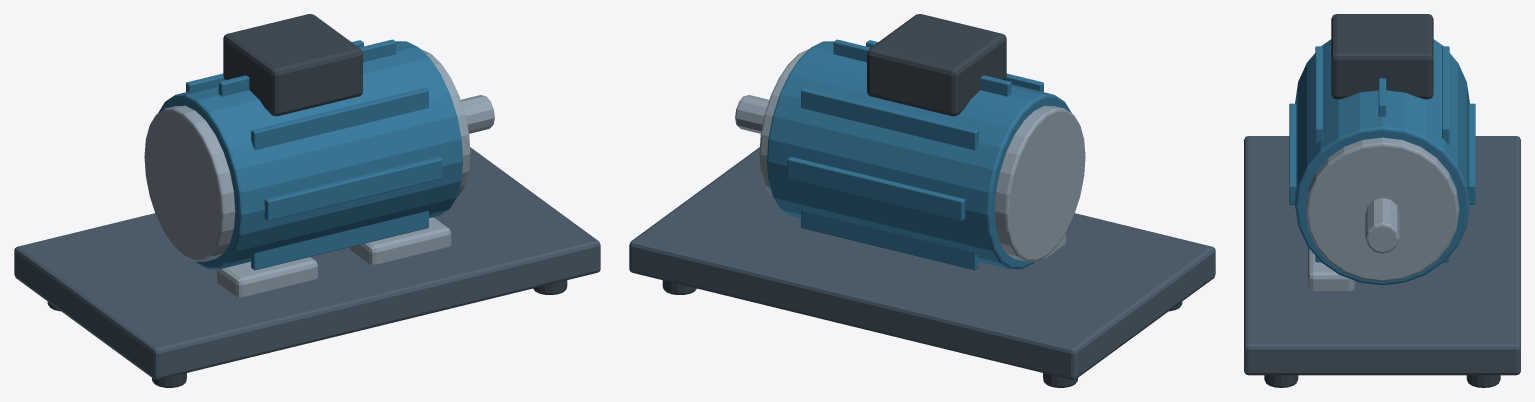
File: industrial-motor-lod1.glb
3 views of the same model, side by side, from view 1: azimuth 30°, elevation 25°; view 2: azimuth 150°, elevation 25°; view 3: azimuth 270°, elevation 25° (orthographic). The views are drawn at different scales.
Visible parts, largest first — view 1: drive_base, motor, motor_rear_endcap, motor_terminal_box, motor_cooling_fin_04, motor_cooling_fin_03, motor_cooling_fin_05, motor_foot_left, motor_foot_right, motor_front_endcap, motor_cooling_fin_02, motor_shaft; view 2: drive_base, motor, motor_rear_endcap, motor_terminal_box, motor_cooling_fin_00, motor_cooling_fin_01, motor_cooling_fin_07, motor_front_endcap, motor_cooling_fin_02, motor_shaft; view 3: drive_base, motor_front_endcap, motor, motor_terminal_box, motor_shaft, motor_foot_right, motor_cooling_fin_00, motor_cooling_fin_04, motor_cooling_fin_01, motor_cooling_fin_03, base_mount_2.0_0.9500000000000001, base_mount_2.0_-0.9500000000000001 (+1 smaller).
Part boxes in pixels (left/top/right/bottom): drive_base: left=14, top=147, right=600, bottom=379; motor: left=158, top=41, right=463, bottom=269; motor_rear_endcap: left=144, top=105, right=235, bottom=261; motor_terminal_box: left=223, top=14, right=362, bottom=116; motor_cooling_fin_04: left=264, top=157, right=442, bottom=220; motor_cooling_fin_03: left=251, top=88, right=428, bottom=150; motor_cooling_fin_05: left=251, top=210, right=428, bottom=270; motor_foot_left: left=216, top=257, right=317, bottom=297; motor_foot_right: left=349, top=217, right=451, bottom=264; motor_front_endcap: left=421, top=49, right=470, bottom=196; motor_cooling_fin_02: left=218, top=39, right=396, bottom=96; motor_shaft: left=460, top=95, right=494, bottom=133; drive_base: left=629, top=147, right=1215, bottom=379; motor: left=766, top=41, right=1071, bottom=269; motor_rear_endcap: left=994, top=105, right=1085, bottom=261; motor_terminal_box: left=867, top=14, right=1006, bottom=116; motor_cooling_fin_00: left=787, top=157, right=965, bottom=220; motor_cooling_fin_01: left=801, top=88, right=978, bottom=150; motor_cooling_fin_07: left=801, top=210, right=978, bottom=270; motor_front_endcap: left=759, top=49, right=808, bottom=196; motor_cooling_fin_02: left=833, top=39, right=1011, bottom=96; motor_shaft: left=735, top=95, right=769, bottom=133; drive_base: left=1244, top=136, right=1520, bottom=375; motor_front_endcap: left=1305, top=137, right=1459, bottom=281; motor: left=1295, top=39, right=1469, bottom=285; motor_terminal_box: left=1331, top=14, right=1433, bottom=99; motor_shaft: left=1365, top=197, right=1399, bottom=253; motor_foot_right: left=1308, top=247, right=1354, bottom=290; motor_cooling_fin_00: left=1468, top=103, right=1475, bottom=204; motor_cooling_fin_04: left=1289, top=103, right=1296, bottom=204; motor_cooling_fin_01: left=1442, top=46, right=1449, bottom=145; motor_cooling_fin_03: left=1315, top=46, right=1322, bottom=145; base_mount_2.0_0.9500000000000001: left=1466, top=375, right=1500, bottom=387; base_mount_2.0_-0.9500000000000001: left=1264, top=375, right=1298, bottom=387.
Bounding box in the file's own units: 4.7 × 2.6 × 2.6.
